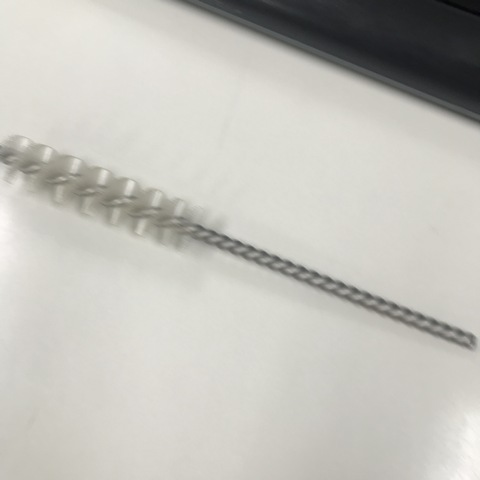Twist Brush-B: (1, 134, 476, 353)
